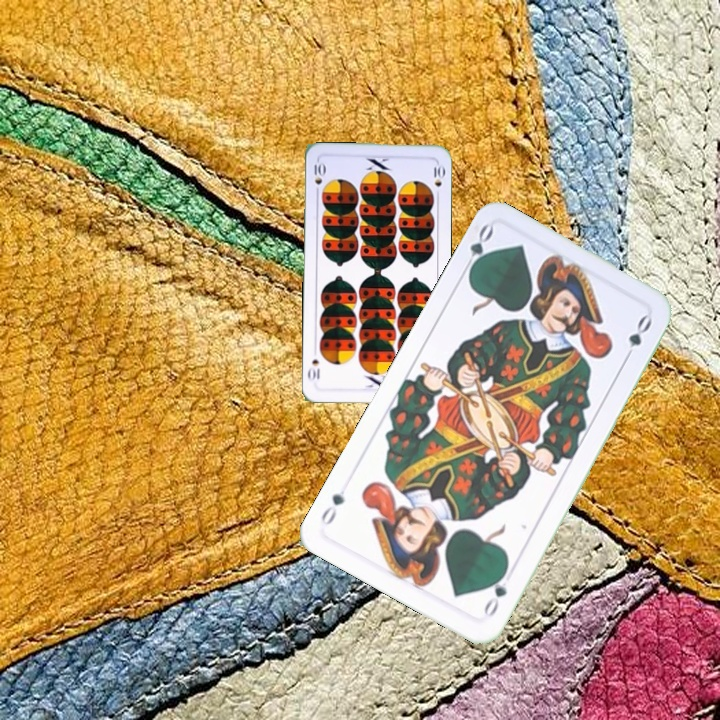GO: (458, 220, 496, 278), (479, 565, 510, 620)
S10: (310, 157, 326, 198)
